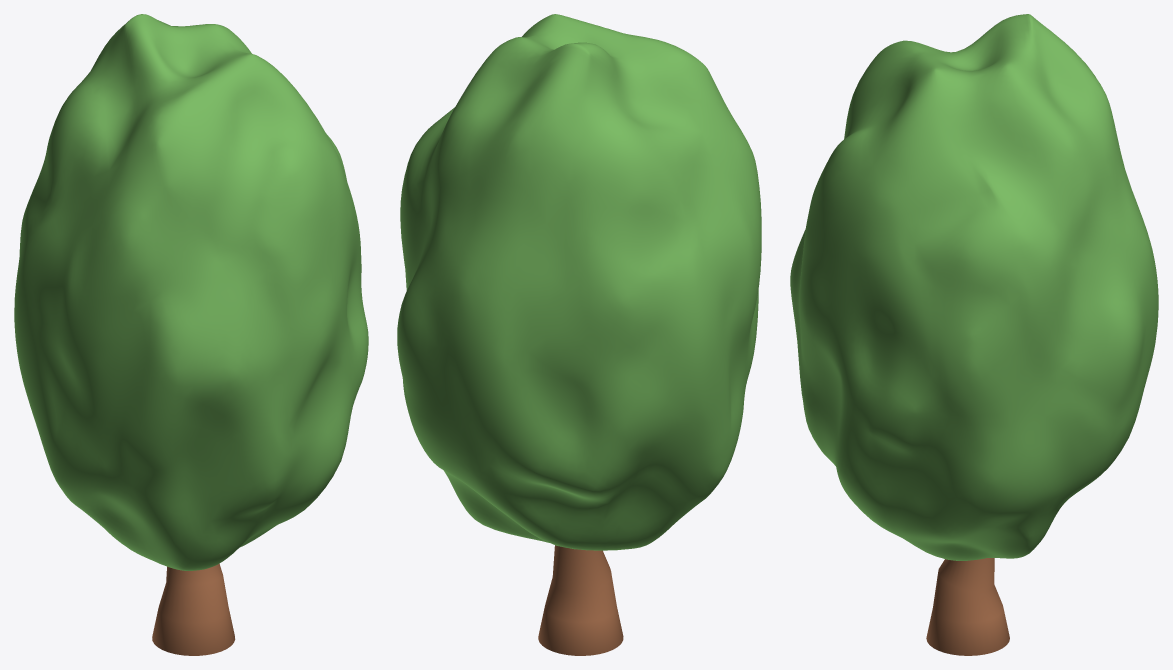
Rendered from TREE_THREE.fbx.
3 views of the same model, side by side, from view 1: azimuth 30°, elevation 25°; view 2: azimuth 150°, elevation 25°; view 3: azimuth 270°, elevation 25° (orthographic). The views are drawn at different scales.
Parts seen in each view (by area): view 1: Icosphere.026, Cylinder.015; view 2: Icosphere.026, Cylinder.015; view 3: Icosphere.026, Cylinder.015.
Part boxes in pixels (left/top/right/bottom): Icosphere.026: left=14, top=14, right=368, bottom=570; Cylinder.015: left=152, top=563, right=235, bottom=655; Icosphere.026: left=397, top=14, right=761, bottom=550; Cylinder.015: left=538, top=545, right=623, bottom=655; Icosphere.026: left=790, top=14, right=1158, bottom=560; Cylinder.015: left=926, top=558, right=1009, bottom=655.
Bounding box in the file's own units: 1771 × 3269 × 1787.
